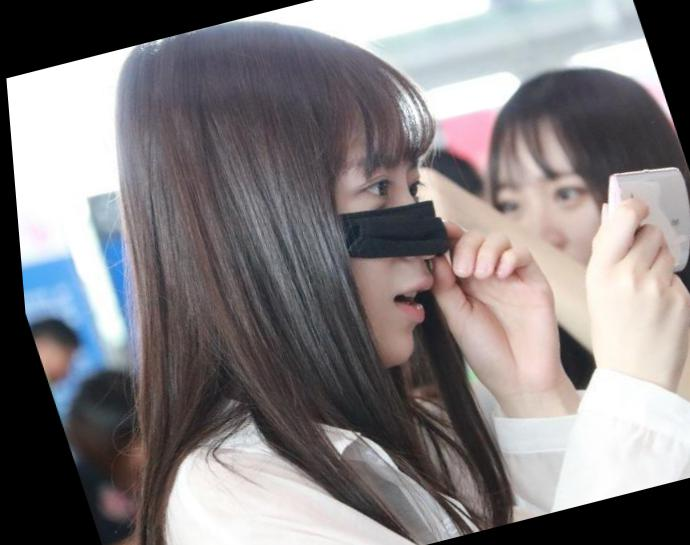NONE: (476, 149, 645, 324)
WRONG: (260, 109, 490, 382)
